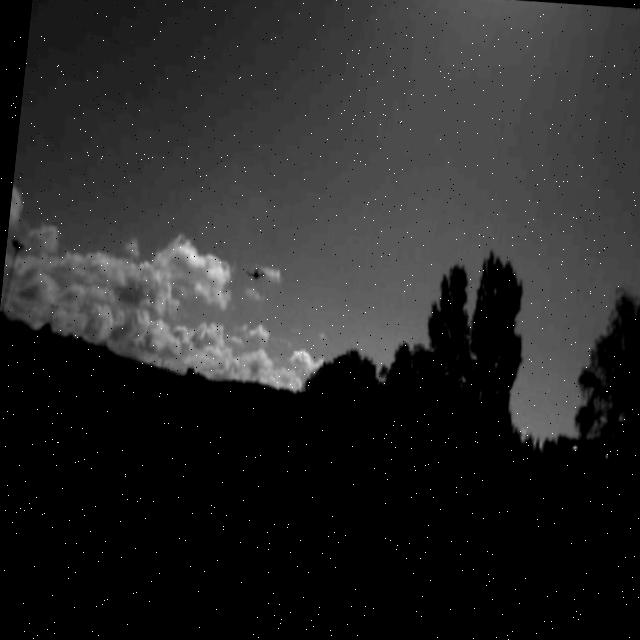drone: (244, 263, 266, 285)
